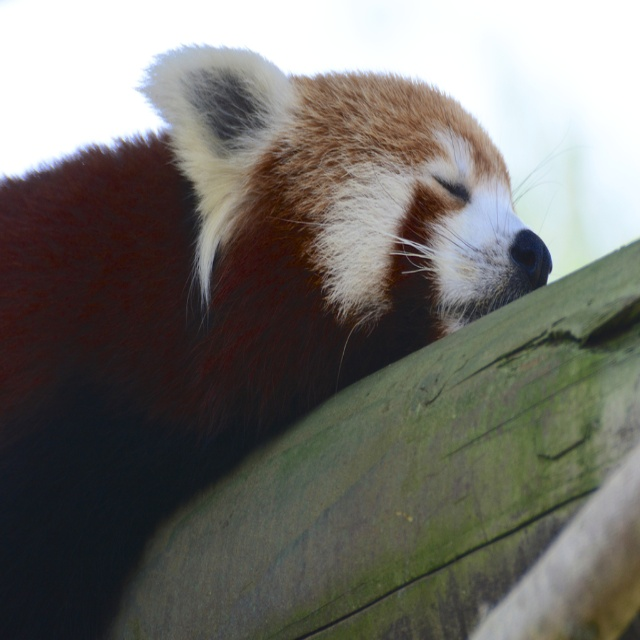Red panda: (0, 41, 548, 639)
